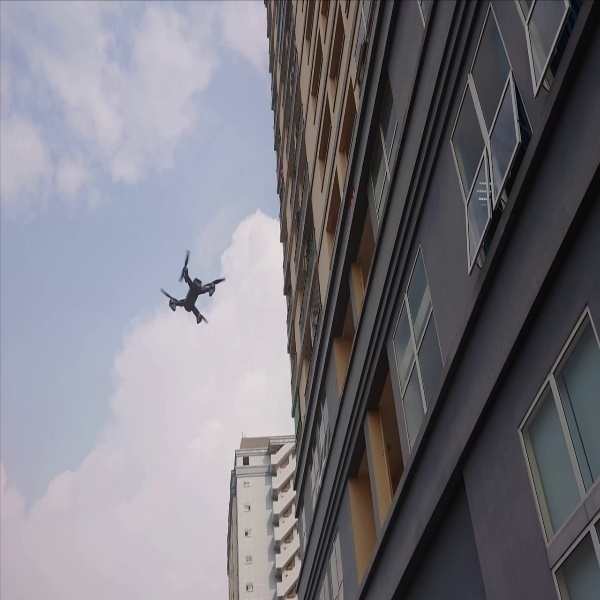drone: (152, 245, 232, 332)
